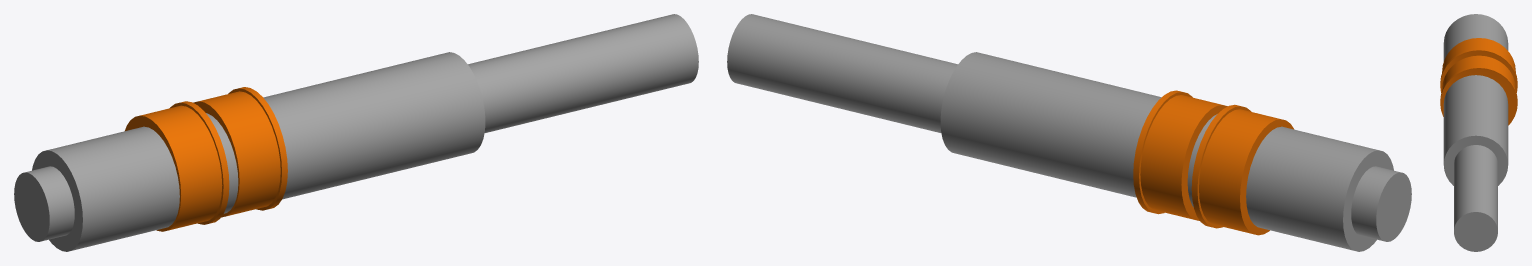
Rendered from slipring.glb.
The picture shows the model from 3 angles, left to right: view 1: azimuth 30°, elevation 25°; view 2: azimuth 150°, elevation 25°; view 3: azimuth 270°, elevation 25°; orthographic projection. The views are drawn at different scales.
Parts seen in each view (by area): view 1: Cylinder.012, Cylinder.013, Cylinder.015, Cylinder.014; view 2: Cylinder.012, Cylinder.013, Cylinder.015, Cylinder.014; view 3: Cylinder.012, Cylinder.013, Cylinder.014, Cylinder.015.
Part boxes in pixels (bbox=[...]): Cylinder.012: bbox=[32, 52, 485, 251]; Cylinder.013: bbox=[14, 14, 698, 241]; Cylinder.015: bbox=[125, 101, 229, 231]; Cylinder.014: bbox=[193, 87, 287, 217]; Cylinder.012: bbox=[940, 52, 1393, 251]; Cylinder.013: bbox=[727, 14, 1411, 241]; Cylinder.015: bbox=[1191, 104, 1294, 235]; Cylinder.014: bbox=[1133, 90, 1227, 220]; Cylinder.012: bbox=[1443, 14, 1508, 185]; Cylinder.013: bbox=[1454, 145, 1497, 251]; Cylinder.014: bbox=[1440, 55, 1517, 125]; Cylinder.015: bbox=[1440, 38, 1517, 92].
Bounding box in the file's own units: 11.7 × 1.95 × 1.95.
